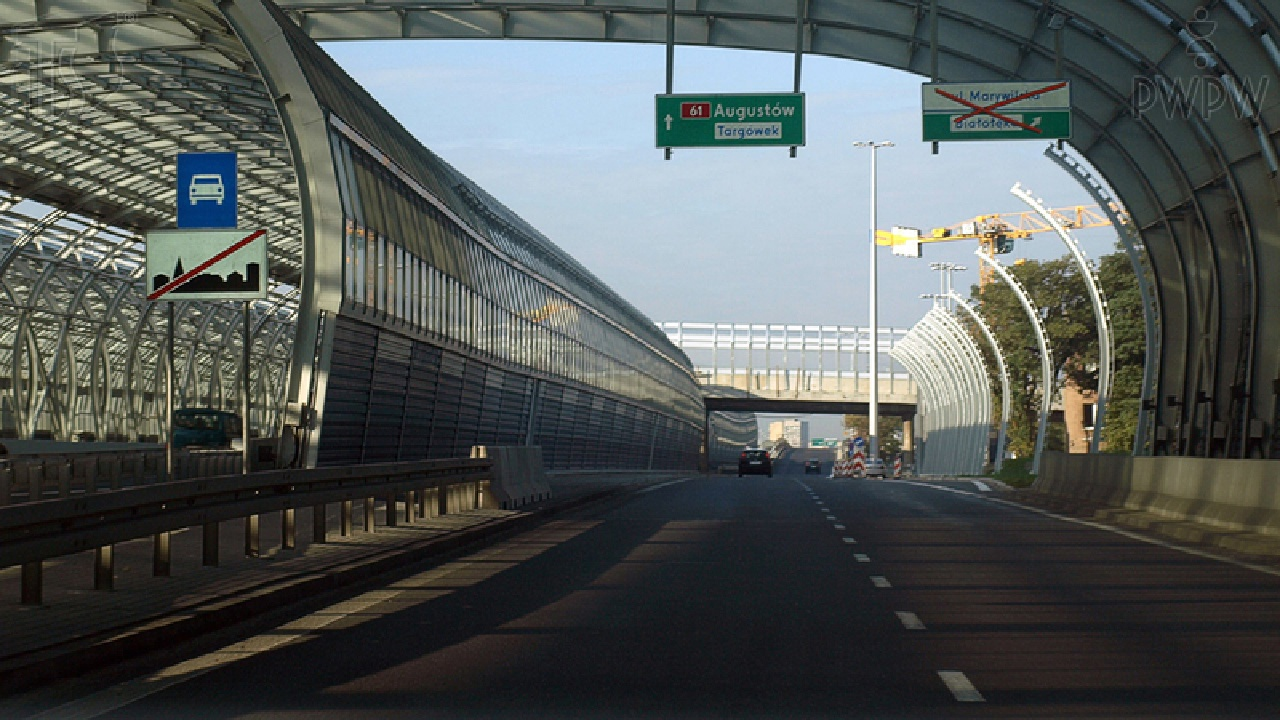D43: (146, 230, 269, 299)
D7: (177, 152, 237, 230)
